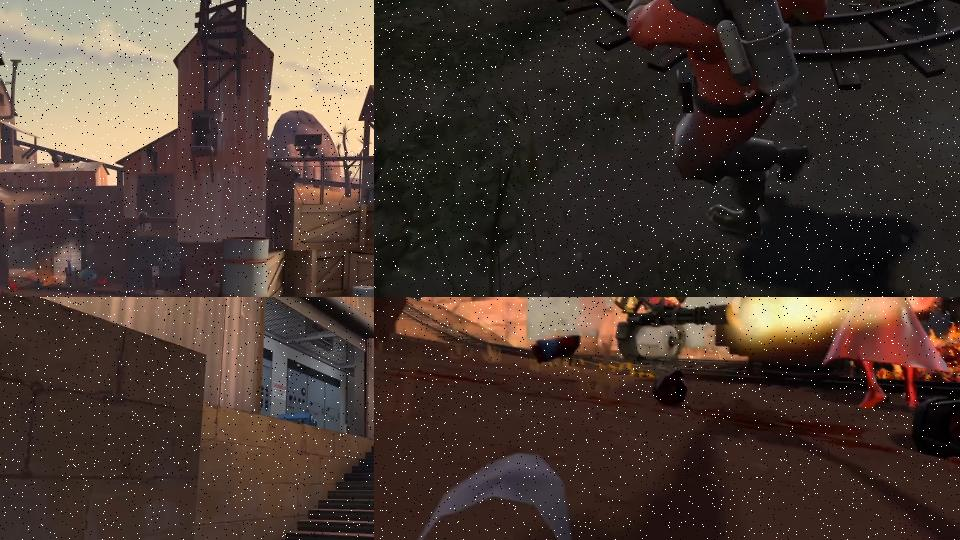Enemy: (589, 0, 831, 240), (819, 297, 939, 408), (601, 297, 733, 364)
